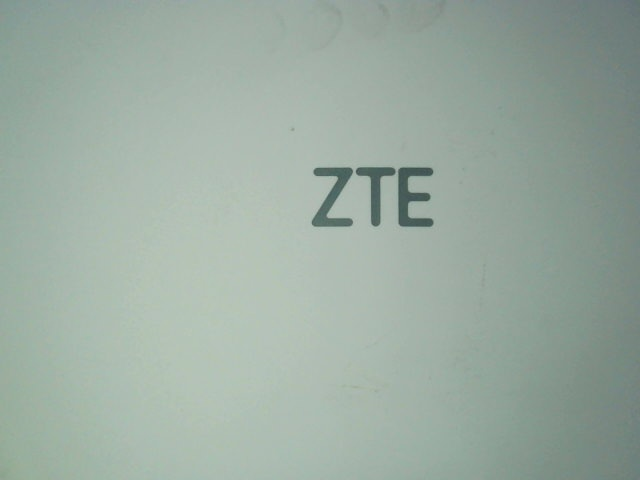AN_ZTE: (311, 163, 442, 237)
